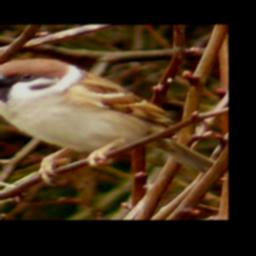Sparrow: (0, 58, 217, 186)
